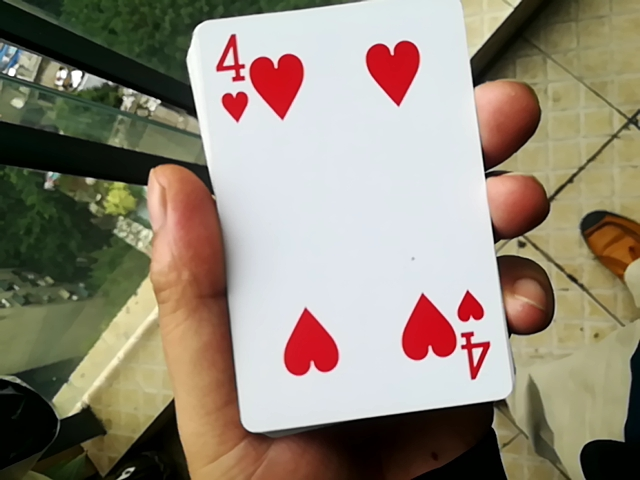hx 4: (174, 9, 506, 434)
